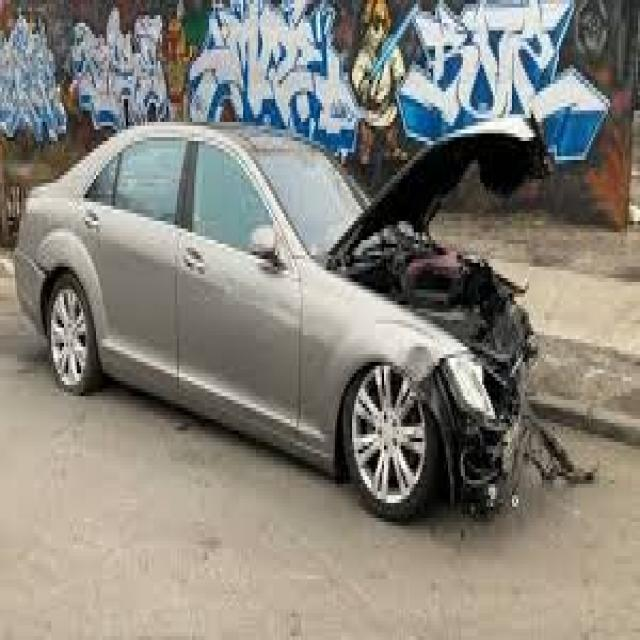accident: (24, 94, 558, 553)
